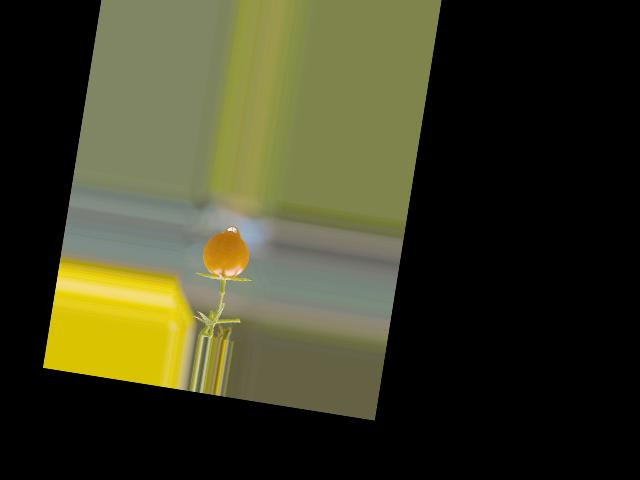tomato: (200, 229, 252, 281)
